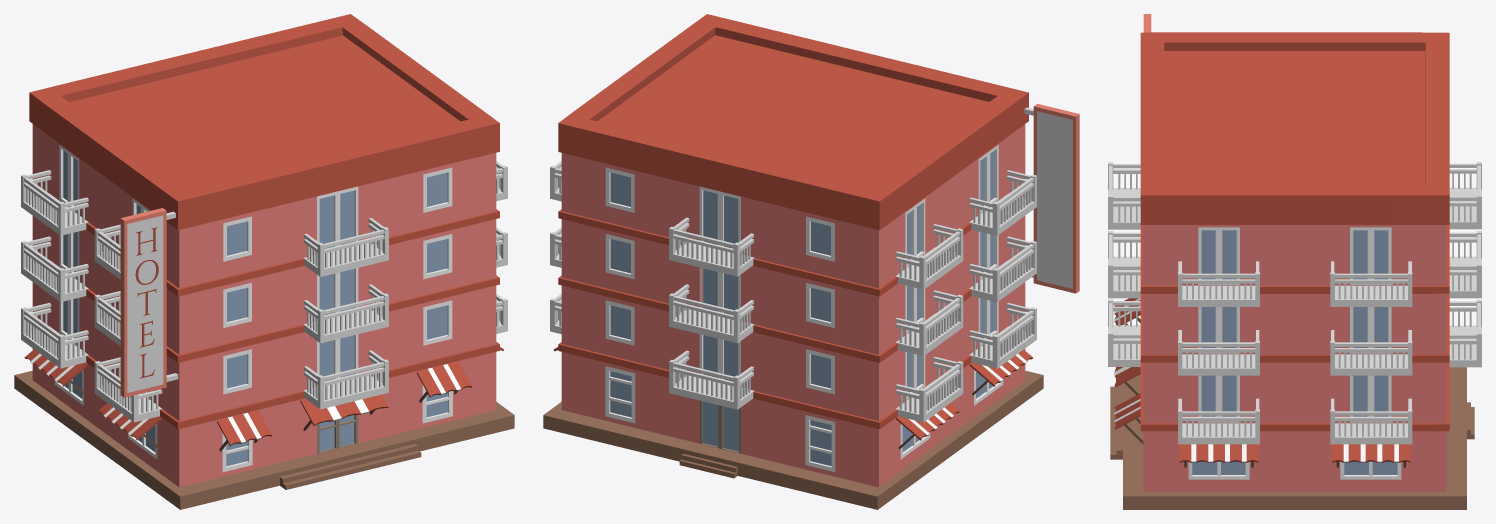
Rendered from Hotel_11.fbx.
3 views of the same model, side by side, from view 1: azimuth 30°, elevation 25°; view 2: azimuth 150°, elevation 25°; view 3: azimuth 270°, elevation 25° (orthographic). The views are drawn at different scales.
Visible parts, largest first — view 1: Hotel_11; view 2: Hotel_11; view 3: Hotel_11.
Boxes of the visible parts, box(x1,y1,x2,y2) form: Hotel_11: box(14, 14, 514, 509); Hotel_11: box(543, 14, 1079, 509); Hotel_11: box(1108, 14, 1481, 509).
Size of the model in its own units: 1892 by 1359 by 1478.
